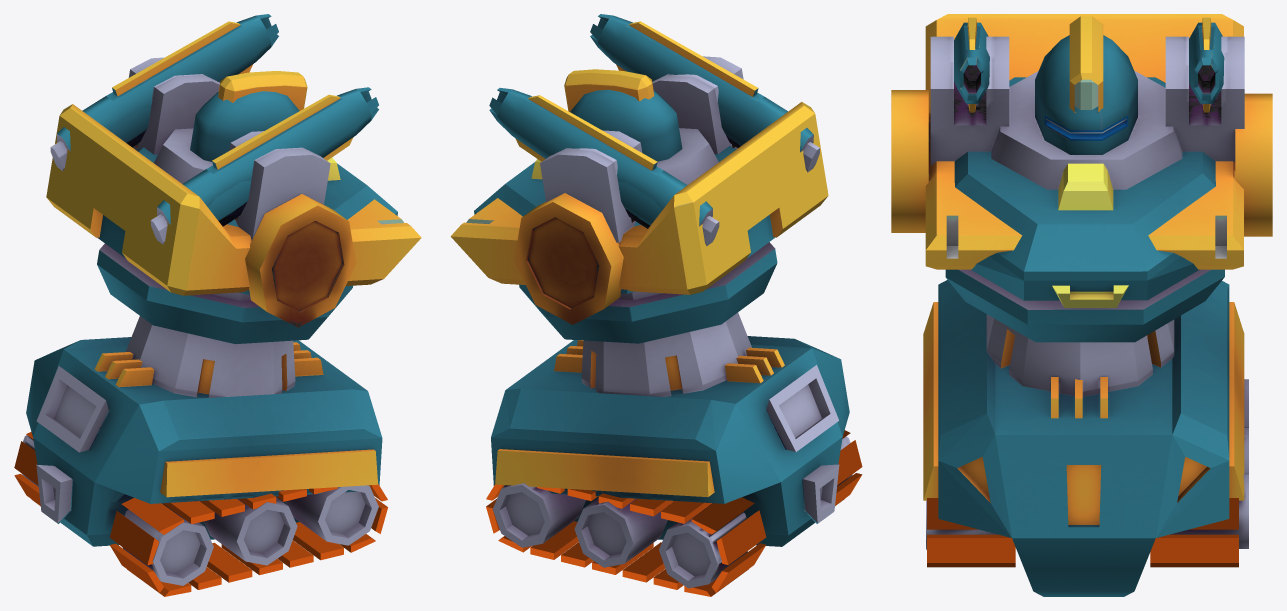
Rendered from Player_Move12.obj.
3 renders of one model, left to right at view 1: azimuth 30°, elevation 25°; view 2: azimuth 150°, elevation 25°; view 3: azimuth 270°, elevation 25°, orthographic. The views are drawn at different scales.
Visible parts, largest first — view 1: Object004, Object014, Box009, Box017, Box016; view 2: Object004, Object014, Box009, Box016, Box017; view 3: Object004, Object014, Box017, Box016, Box009.
Part boxes in pixels (x1,y1,x2,y2): Object004: [26, 57, 421, 546]; Object014: [50, 14, 378, 244]; Box009: [22, 435, 378, 585]; Box017: [109, 484, 387, 596]; Box016: [14, 432, 40, 505]; Object004: [450, 56, 849, 546]; Object014: [489, 14, 819, 245]; Box009: [492, 436, 852, 588]; Box016: [486, 484, 766, 596]; Box017: [835, 430, 862, 505]; Object004: [891, 14, 1272, 596]; Object014: [954, 17, 1224, 112]; Box017: [927, 498, 1015, 567]; Box016: [1150, 498, 1238, 567]; Box009: [926, 379, 1248, 549].
Bounding box in the file's own units: 60.24 × 82.68 × 52.49.
